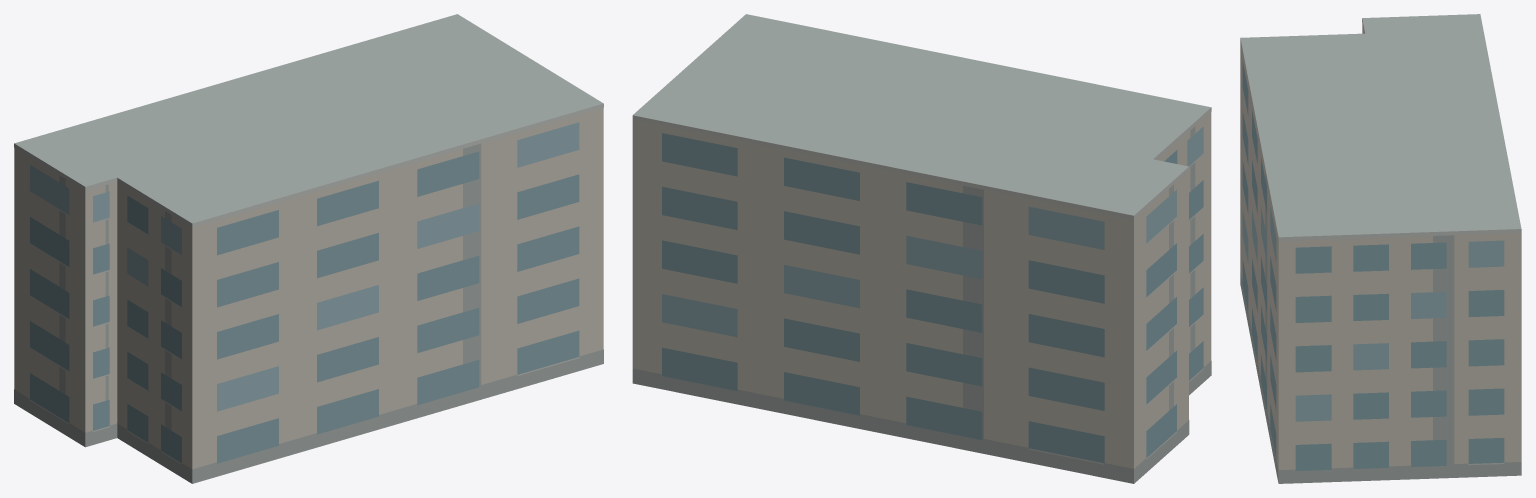
Rendered from residential-84b1f3b3-86a6-4b02-929c-6f1cfe5fdcdc.glb.
3 views of the same model, side by side, from view 1: azimuth 30°, elevation 25°; view 2: azimuth 150°, elevation 25°; view 3: azimuth 270°, elevation 25° (orthographic). The views are drawn at different scales.
Visible parts, largest first — view 1: residential-84b1f3b3-86a6-4b02-929c-6f1cfe5fdcdc.tmp; view 2: residential-84b1f3b3-86a6-4b02-929c-6f1cfe5fdcdc.tmp; view 3: residential-84b1f3b3-86a6-4b02-929c-6f1cfe5fdcdc.tmp.
Boxes of the visible parts, x1=… form: residential-84b1f3b3-86a6-4b02-929c-6f1cfe5fdcdc.tmp: x1=14, y1=14, x2=603, y2=483; residential-84b1f3b3-86a6-4b02-929c-6f1cfe5fdcdc.tmp: x1=632, y1=14, x2=1211, y2=483; residential-84b1f3b3-86a6-4b02-929c-6f1cfe5fdcdc.tmp: x1=1240, y1=14, x2=1521, y2=483.
Size of the model in its own units: 29.62 by 15.25 by 15.76.
